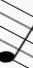note: (0, 3, 32, 64)
